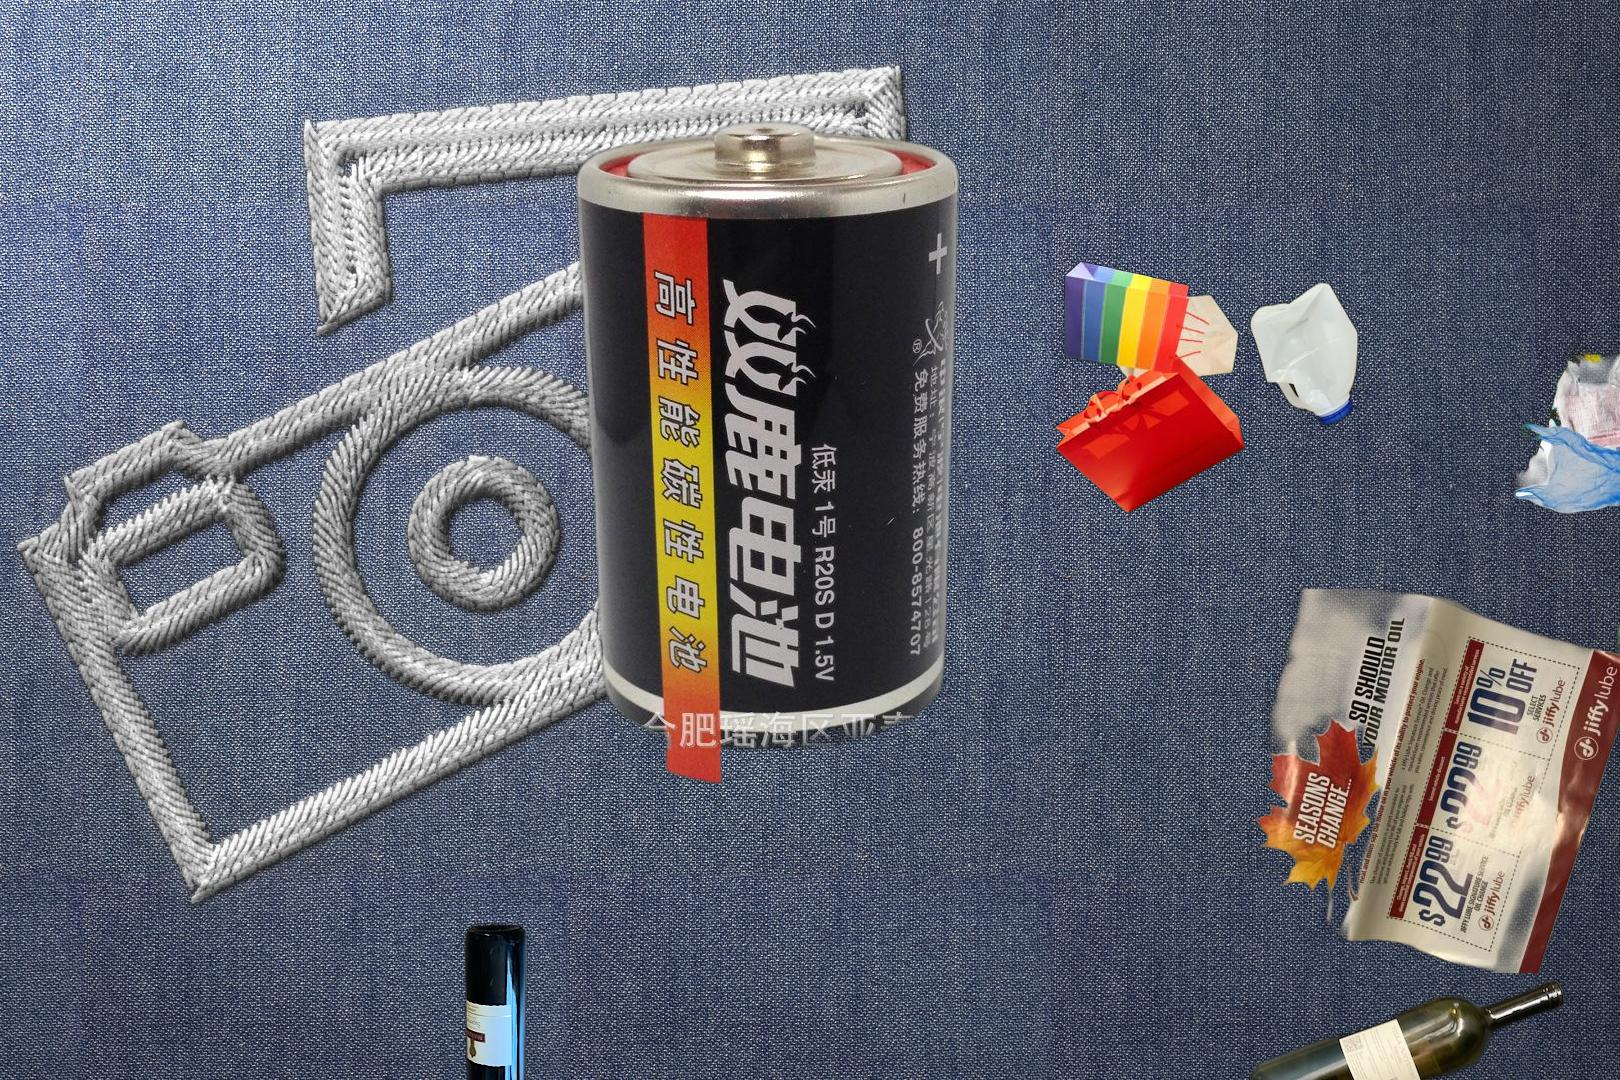battery: (569, 115, 965, 790)
glass: (1248, 975, 1569, 1080), (454, 912, 532, 1080)
paper: (1250, 589, 1620, 973)
paper-bag: (1053, 260, 1248, 516)
plastic-bag: (1465, 309, 1620, 517)
plastic-bottles: (1245, 275, 1363, 432), (1602, 611, 1620, 997)
